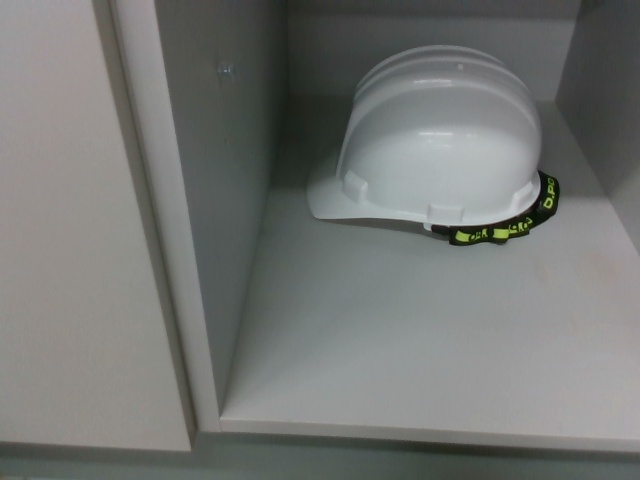helmet: (308, 40, 563, 249)
